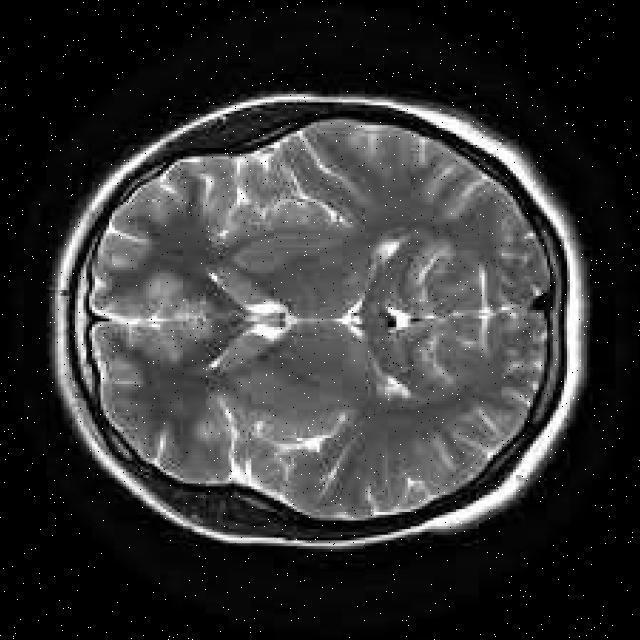No_Tumor: (56, 93, 585, 547)
